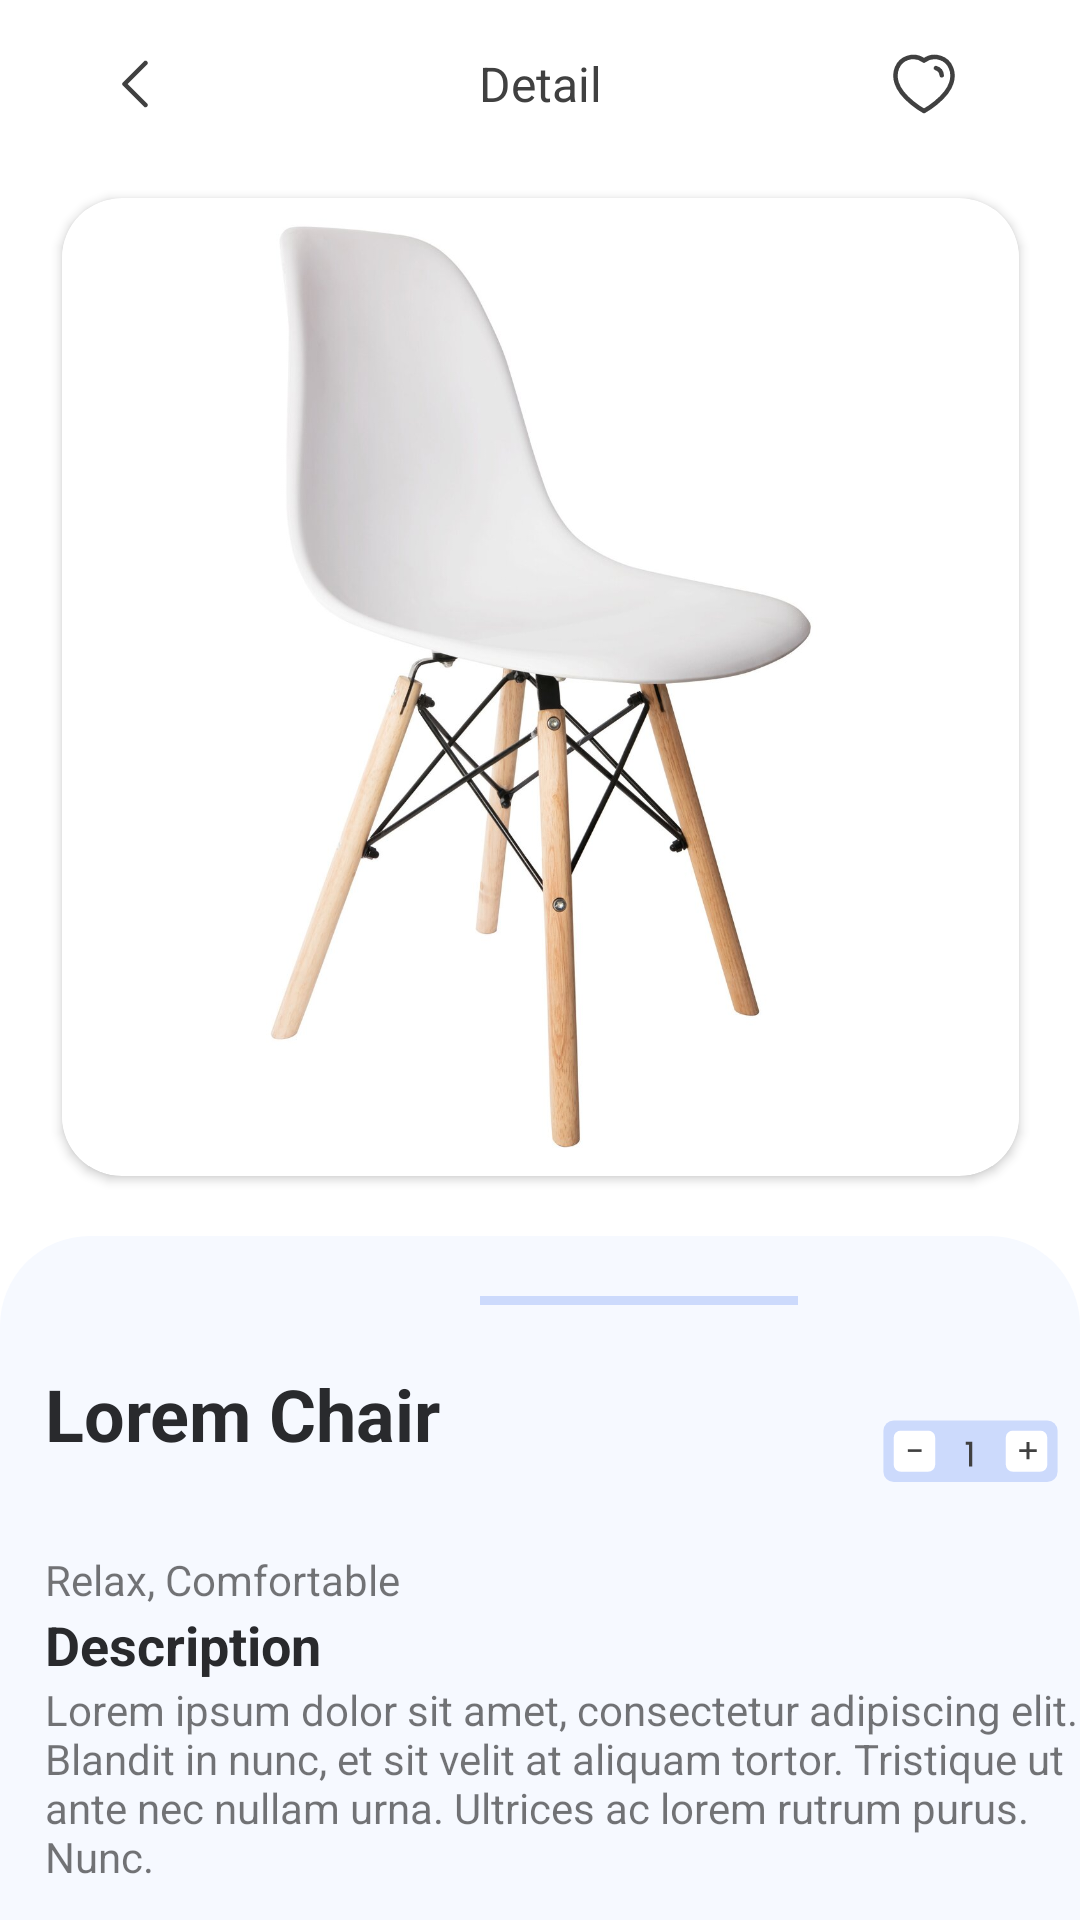

Named icons in this screenshot (1080px×1920px) and their bounding boxes, (x1, y1, x2, y2):
left: (122, 60, 148, 108)
like: (893, 54, 955, 114)
